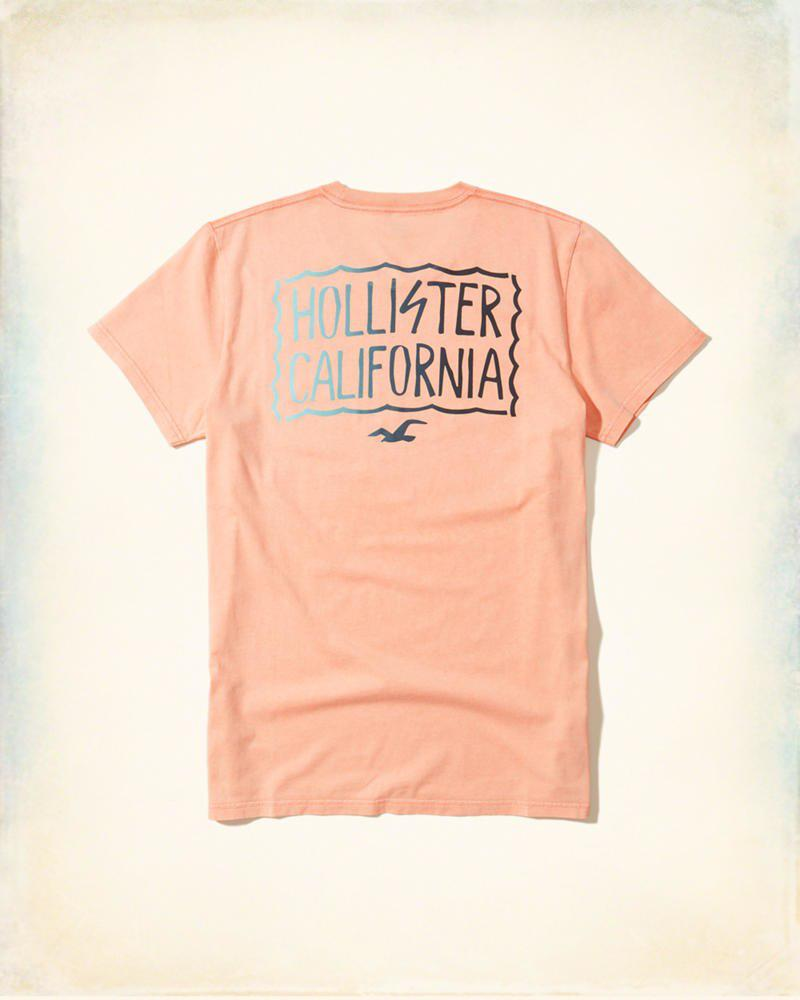teeshirt: (71, 159, 730, 860)
